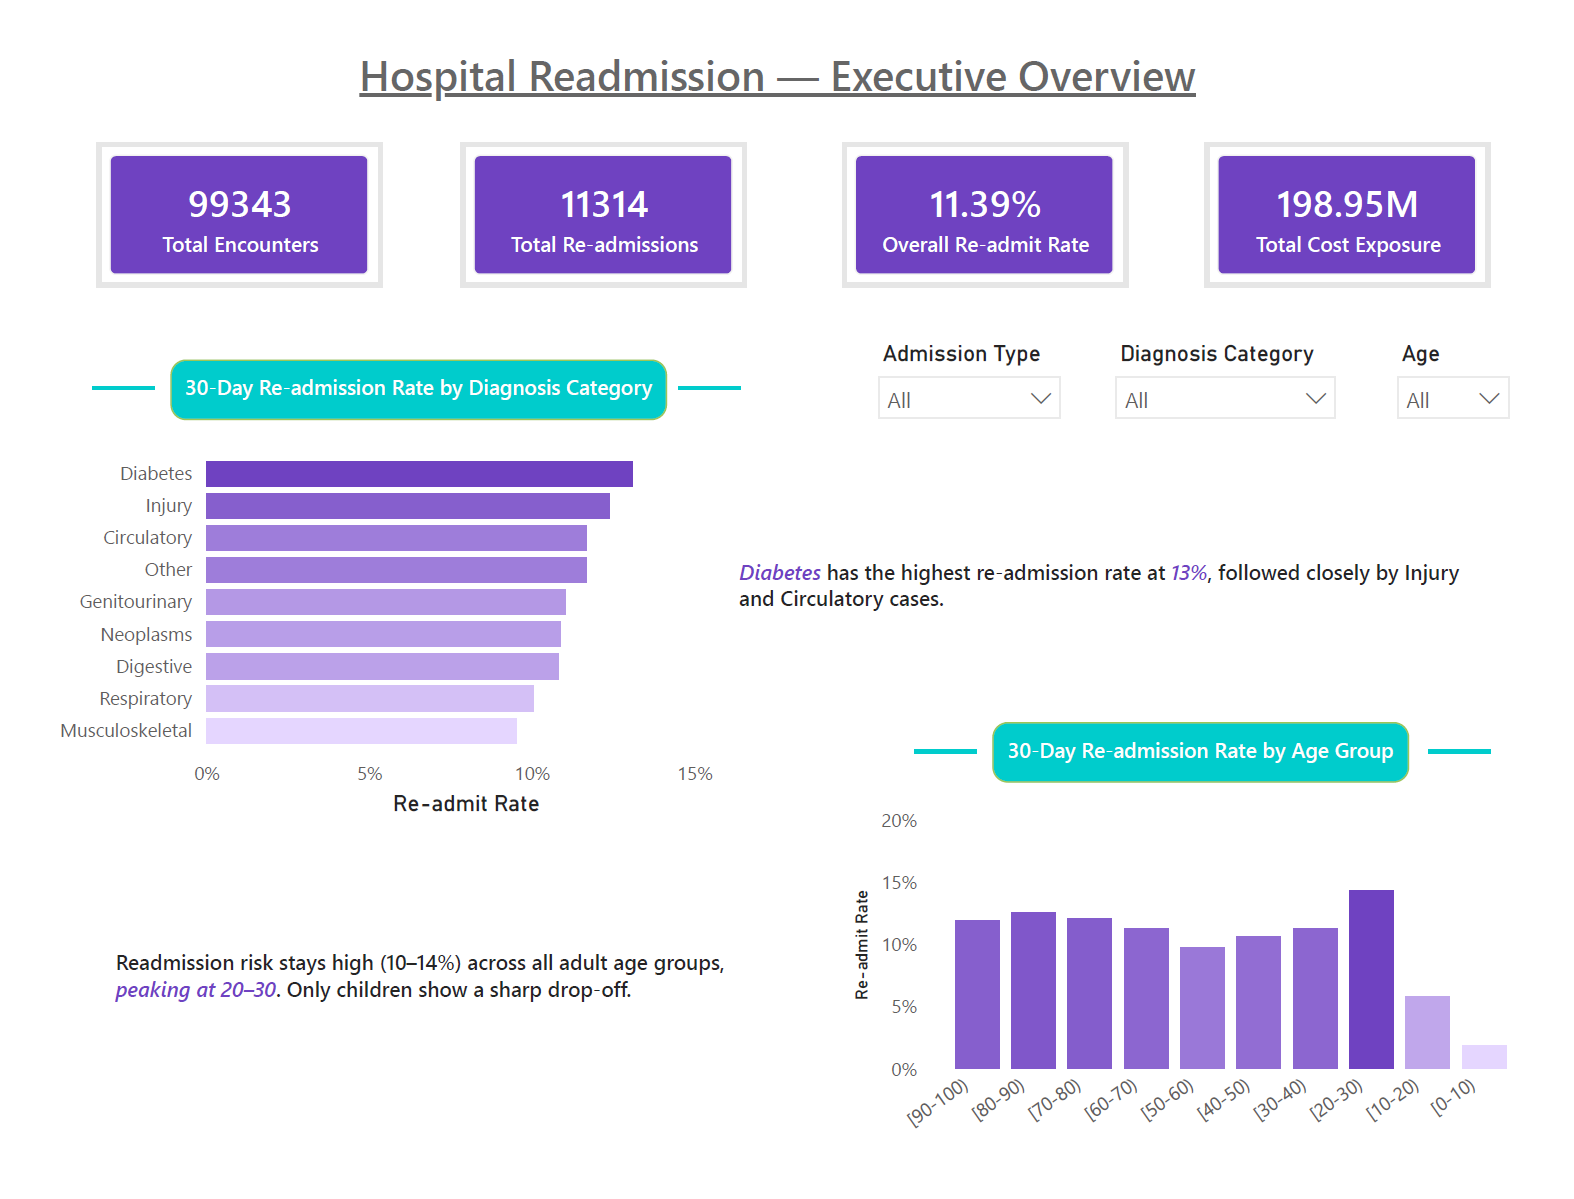

Layout of this report page (visuals, bound fields, positions):
{"tool":"powerbi","page":{"name":"Executive Overview","canvas":[960,720],"ordinal":0},"visuals":[{"type":"textbox","box":[201.4,0,557.3,53],"z":0},{"type":"cardVisual","fields":{"Data":["powerbi_data_export.Total Encounters"]},"box":[38.3,67.3,182.9,93.1],"z":1000},{"type":"cardVisual","fields":{"Data":["powerbi_data_export.Total Cost Exposure"]},"box":[747.1,67.1,182.9,93.1],"z":2000},{"type":"cardVisual","fields":{"Data":["powerbi_data_export.Readmit Rate"]},"box":[515.5,67.1,182.9,93.1],"z":3000},{"type":"cardVisual","fields":{"Data":["powerbi_data_export.Total Readmissions"]},"box":[271,67.1,182.9,93.1],"z":4000},{"type":"clusteredBarChart","fields":{"Category":["powerbi_data_export.diagnosis_category"],"Y":["powerbi_data_export.Readmit Rate"]},"box":[2.2,250,455.6,253.2],"z":5000},{"type":"clusteredColumnChart","fields":{"Category":["powerbi_data_export.age"],"Y":["powerbi_data_export.Readmit Rate"]},"box":[517.2,486.9,442.6,232.6],"z":6000},{"type":"slicer","fields":{"Values":["powerbi_data_export.diagnosis_category"]},"box":[680,188.9,161.2,70.3],"z":7000},{"type":"slicer","fields":{"Values":["powerbi_data_export.age"]},"box":[859.6,188.9,92,70.3],"z":8000},{"type":"slicer","fields":{"Values":["powerbi_data_export.admission_type"]},"box":[528.5,188.9,136.3,70.3],"z":9000},{"type":"textbox","box":[84.6,205.6,318.1,39],"z":10000},{"type":"shape","box":[410.3,137.4,40,174.2],"z":11000},{"type":"shape","box":[34.8,137.4,40,174.2],"z":12000},{"type":"textbox","box":[611.2,438,267.3,39],"z":13000},{"type":"shape","box":[890.3,369.9,40,174.2],"z":14000},{"type":"shape","box":[561.4,369.9,40,174.2],"z":15000},{"type":"textbox","box":[443.6,327.9,471.8,63.8],"z":16000},{"type":"textbox","box":[45.2,578.3,409,64.1],"z":17000}]}

Visuals, with their boxes on the page's 960x720 design canvas (x1, y1, x2, y2). These are canvas units, not pixel positions in the 1574x1199 screenshot, which may show the page scaled, cropped or inside an application window:
textbox: <region>201, 0, 759, 53</region>
cardVisual - powerbi_data_export.Total Encounters: <region>38, 67, 221, 160</region>
cardVisual - powerbi_data_export.Total Cost Exposure: <region>747, 67, 930, 160</region>
cardVisual - powerbi_data_export.Readmit Rate: <region>516, 67, 698, 160</region>
cardVisual - powerbi_data_export.Total Readmissions: <region>271, 67, 454, 160</region>
clusteredBarChart - powerbi_data_export.diagnosis_category x powerbi_data_export.Readmit Rate: <region>2, 250, 458, 503</region>
clusteredColumnChart - powerbi_data_export.age x powerbi_data_export.Readmit Rate: <region>517, 487, 960, 720</region>
slicer - powerbi_data_export.diagnosis_category: <region>680, 189, 841, 259</region>
slicer - powerbi_data_export.age: <region>860, 189, 952, 259</region>
slicer - powerbi_data_export.admission_type: <region>528, 189, 665, 259</region>
textbox: <region>85, 206, 403, 245</region>
shape: <region>410, 137, 450, 312</region>
shape: <region>35, 137, 75, 312</region>
textbox: <region>611, 438, 878, 477</region>
shape: <region>890, 370, 930, 544</region>
shape: <region>561, 370, 601, 544</region>
textbox: <region>444, 328, 915, 392</region>
textbox: <region>45, 578, 454, 642</region>
